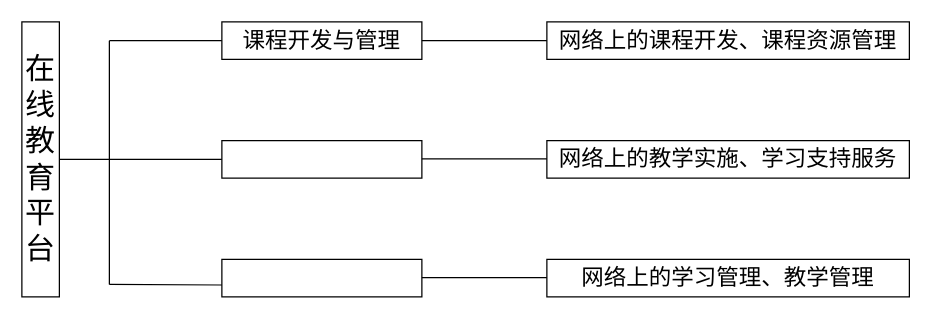
Some shapes in this 931 by 319 pixel diagram are drawn without their labels. Here are the shapes that lost their labels. From the top down, the centre of each, then its label:
point 321,158: 教学与支持服务
point 321,277: 学习与教学管理
